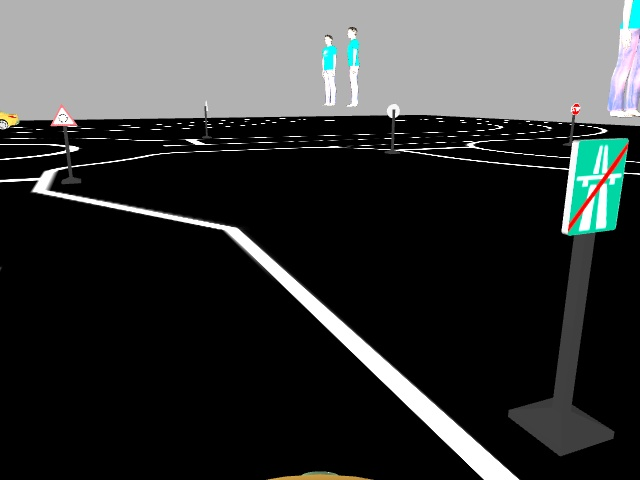HighwayExit: (561, 137, 629, 234)
